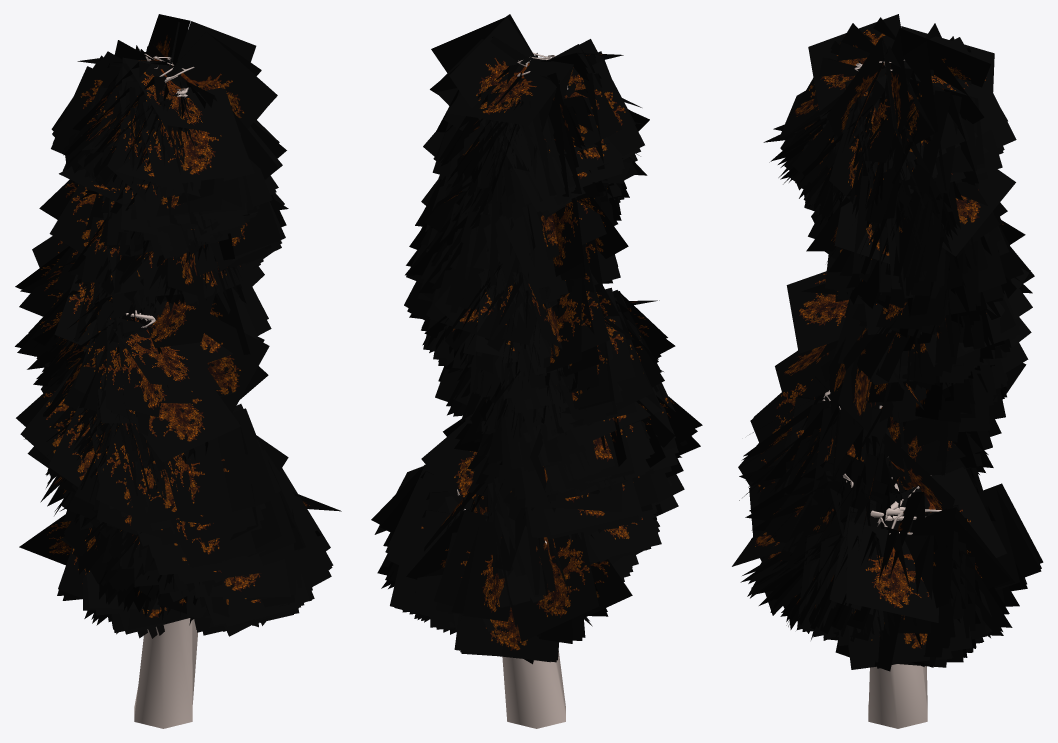
File: arbre6.glb
3 renders of one model, left to right at view 1: azimuth 30°, elevation 25°; view 2: azimuth 150°, elevation 25°; view 3: azimuth 270°, elevation 25°, orthographic. The views are drawn at different scales.
Bounding box in the file's own units: 7.06 × 15.74 × 6.36.
2 materials, 1 textured.
